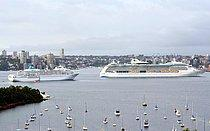Ship: (93, 53, 207, 80), (6, 59, 81, 85)
